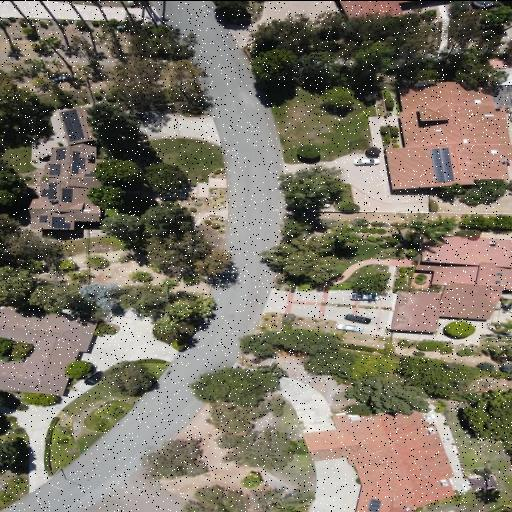solar-panel: (430, 147, 454, 181), (61, 108, 85, 141), (72, 150, 86, 173), (42, 181, 57, 198), (52, 216, 71, 228), (367, 498, 382, 512), (61, 187, 73, 201), (49, 163, 60, 174), (56, 147, 65, 159), (84, 170, 95, 176), (39, 215, 47, 221)
